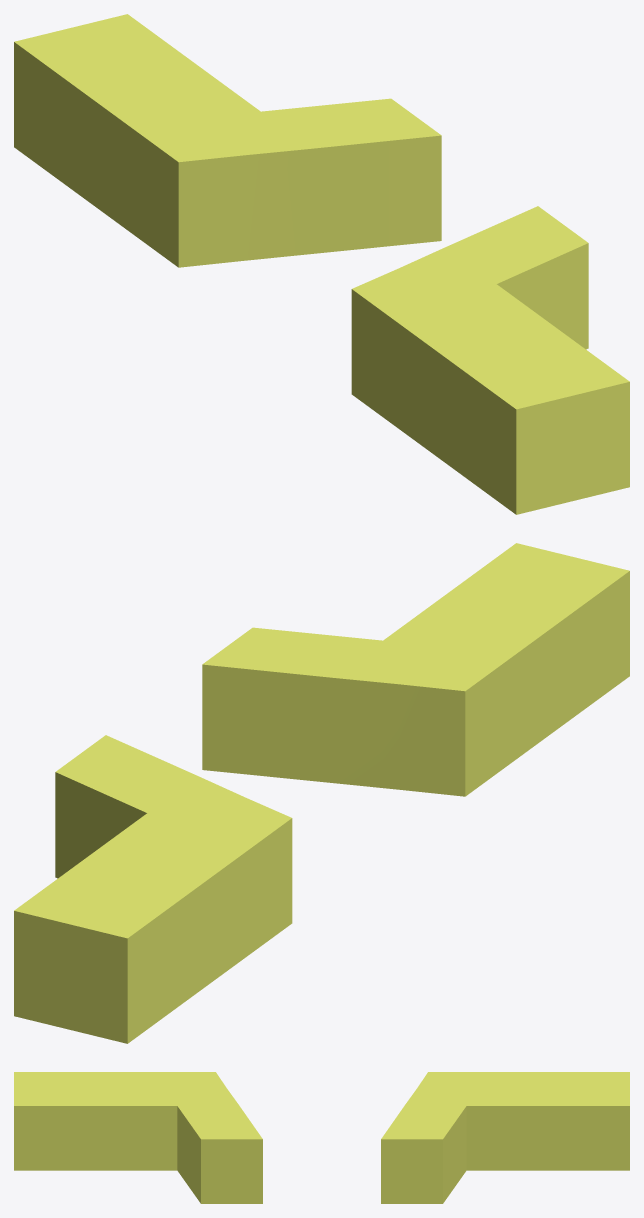
The model's file is Lateral Obstacle.fbx.
The picture shows the model from 3 angles, top to bottom: view 1: azimuth 30°, elevation 25°; view 2: azimuth 150°, elevation 25°; view 3: azimuth 270°, elevation 25°; orthographic projection. The views are drawn at different scales.
Visible parts, largest first — view 1: Box022.001, Box022; view 2: Box022, Box022.001; view 3: Box022, Box022.001.
Part boxes in pixels (x1,y1,x2,y2): Box022.001: [14, 14, 441, 267]; Box022: [351, 206, 629, 514]; Box022: [202, 543, 629, 796]; Box022.001: [14, 735, 292, 1043]; Box022: [14, 1072, 262, 1203]; Box022.001: [381, 1072, 629, 1203].
Bounding box in the file's own units: 10.16 × 4.55 × 39.32.
